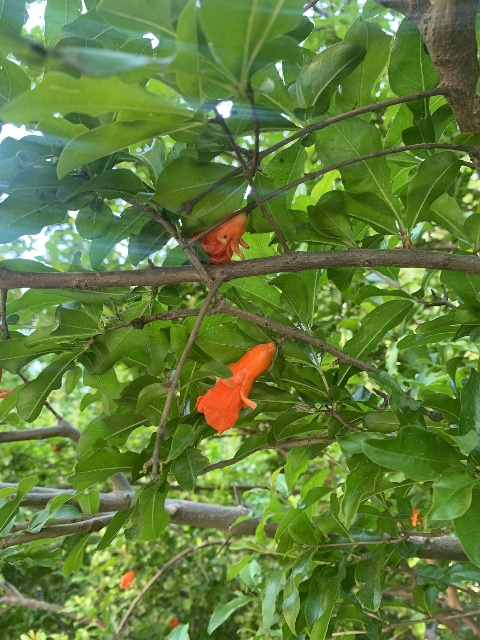flower: (196, 341, 274, 434), (187, 212, 249, 263), (120, 570, 135, 589)
